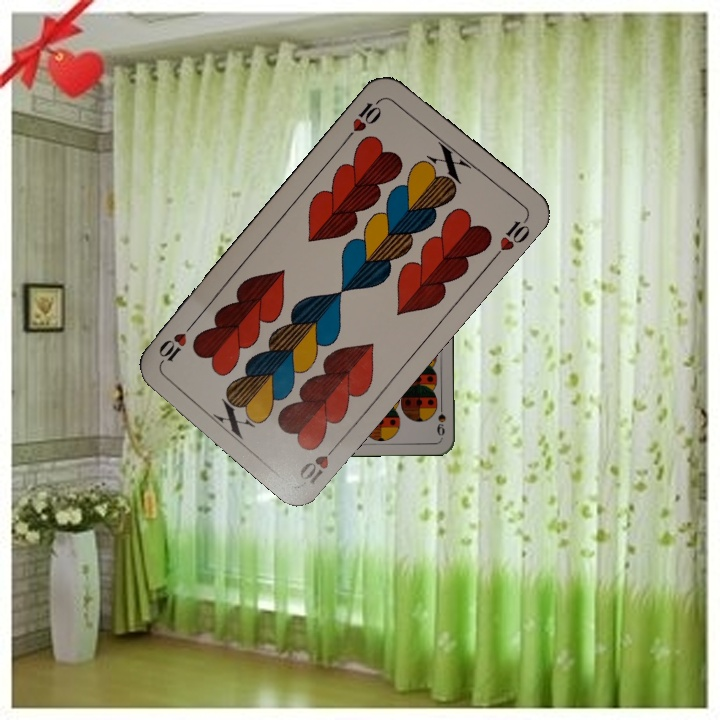H10: (295, 437, 344, 488), (343, 93, 387, 142)
S9: (433, 398, 448, 438)
